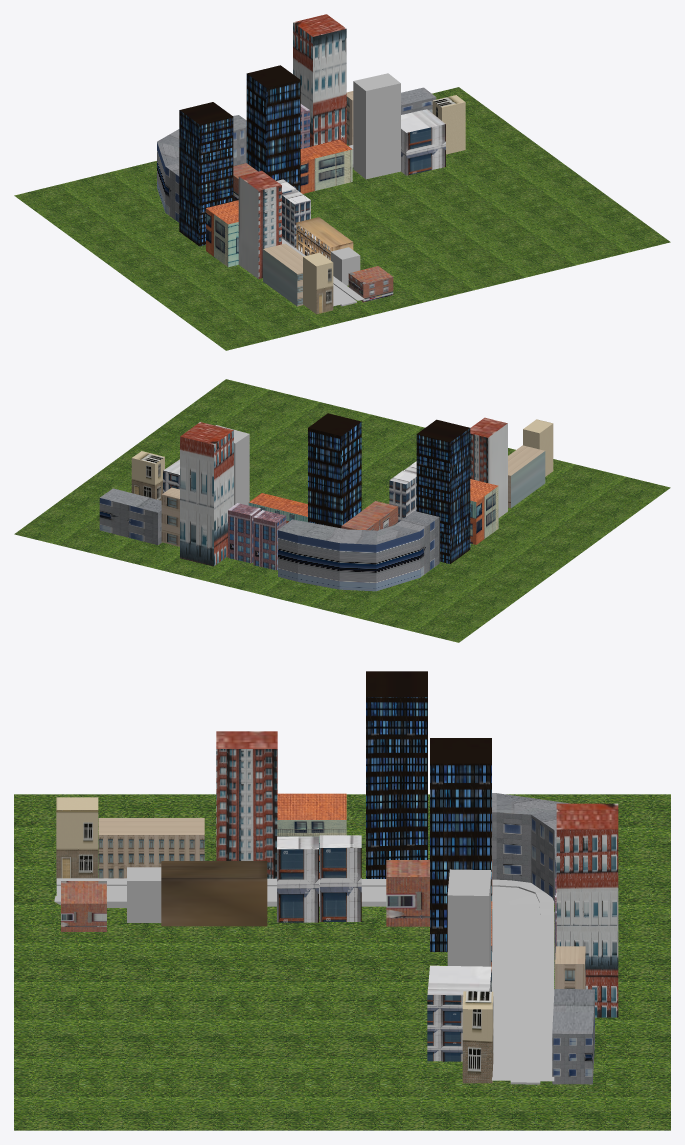
File: teste 2.fbx
3 views of the same model, one above another, from view 1: azimuth 30°, elevation 25°; view 2: azimuth 150°, elevation 25°; view 3: azimuth 270°, elevation 25° (orthographic). The views are drawn at different scales.
Visible parts, largest first — view 1: Plane.001, Cube.007, Cube.012, Cube.018, Cube.017, Cube.002, Cube.016, Cube.011, Cube.013, Cube.001, Cube.006, Cube (+7 smaller); view 2: Plane.001, Cube.011, Cube.018, Cube.007, Cube.012, Cube.019, Cube.002, Cube.001, Cube.006, Cube.015, Cube.014, Cube.021 (+7 smaller); view 3: Plane.001, Plane, Cube.007, Cube.018, Cube.012, Cube.002, Cube.005, Cube.011, Cube.001, Cube.017, Cube.016, Cube.019 (+9 smaller).
Part boxes in pixels (x1,y1,x2,y2): Plane.001: (14, 87, 670, 350); Cube.007: (179, 102, 233, 246); Cube.012: (246, 65, 300, 192); Cube.018: (293, 14, 346, 146); Cube.017: (353, 73, 400, 179); Cube.002: (238, 170, 281, 278); Cube.016: (401, 109, 445, 175); Cube.011: (157, 115, 246, 222); Cube.013: (300, 139, 352, 193); Cube.001: (263, 243, 302, 306); Cube.006: (206, 200, 238, 267); Cube: (303, 252, 333, 314); Plane.001: (14, 379, 670, 642); Cube.011: (278, 511, 439, 591); Cube.018: (180, 422, 233, 566); Cube.007: (416, 419, 470, 563); Cube.012: (308, 413, 361, 528); Cube.019: (99, 488, 161, 545); Cube.002: (470, 417, 507, 517); Cube.001: (508, 445, 545, 508); Cube.006: (470, 479, 498, 544); Cube.015: (253, 510, 286, 570); Cube.014: (228, 503, 260, 563); Cube.021: (131, 451, 164, 500); Plane.001: (14, 794, 670, 1130); Plane: (54, 878, 554, 1084); Cube.007: (366, 671, 427, 878); Cube.018: (556, 803, 618, 1017); Cube.012: (430, 738, 491, 951); Cube.002: (216, 731, 277, 878); Cube.005: (161, 861, 267, 926); Cube.011: (492, 793, 570, 902); Cube.001: (98, 818, 204, 878); Cube.017: (447, 869, 491, 966); Cube.016: (427, 965, 491, 1061); Cube.019: (552, 989, 594, 1084).
Bounding box in the file's own units: 16044 × 4295 × 13247.
